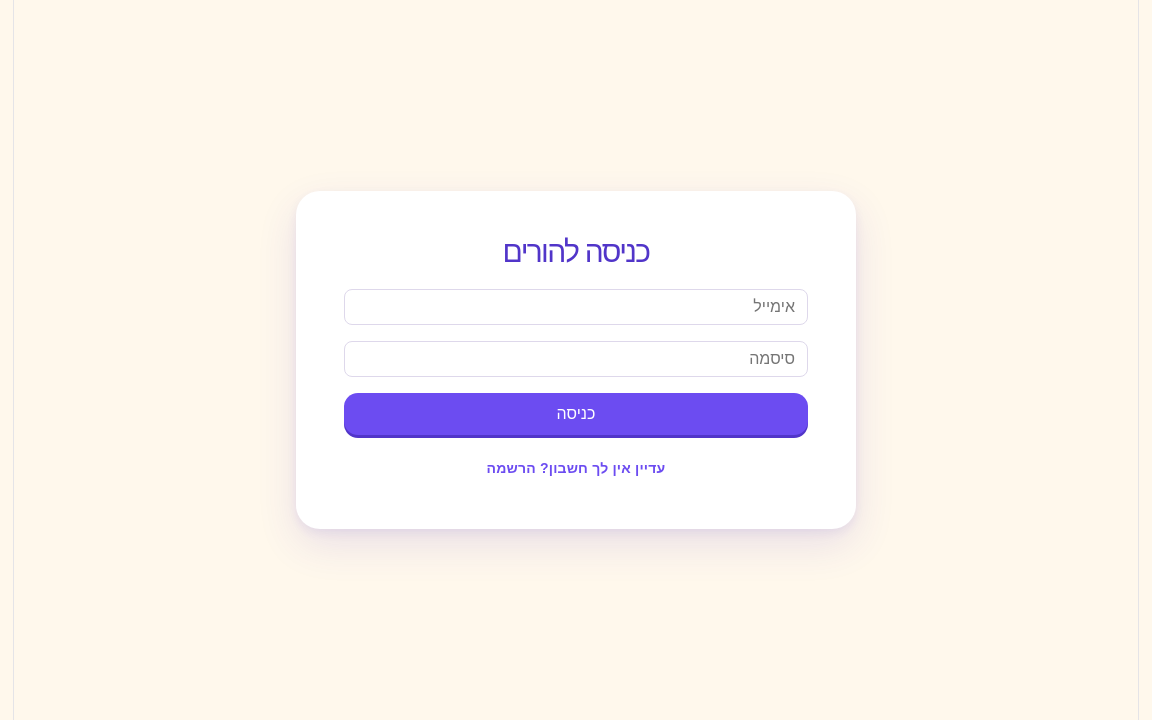
Scenario: LoginPage › disables the submit button and shows the submitting label while the request is in flight
Type "parent@example.com" into the field labelled "אימייל" at (576, 307), box [344,289,808,325]
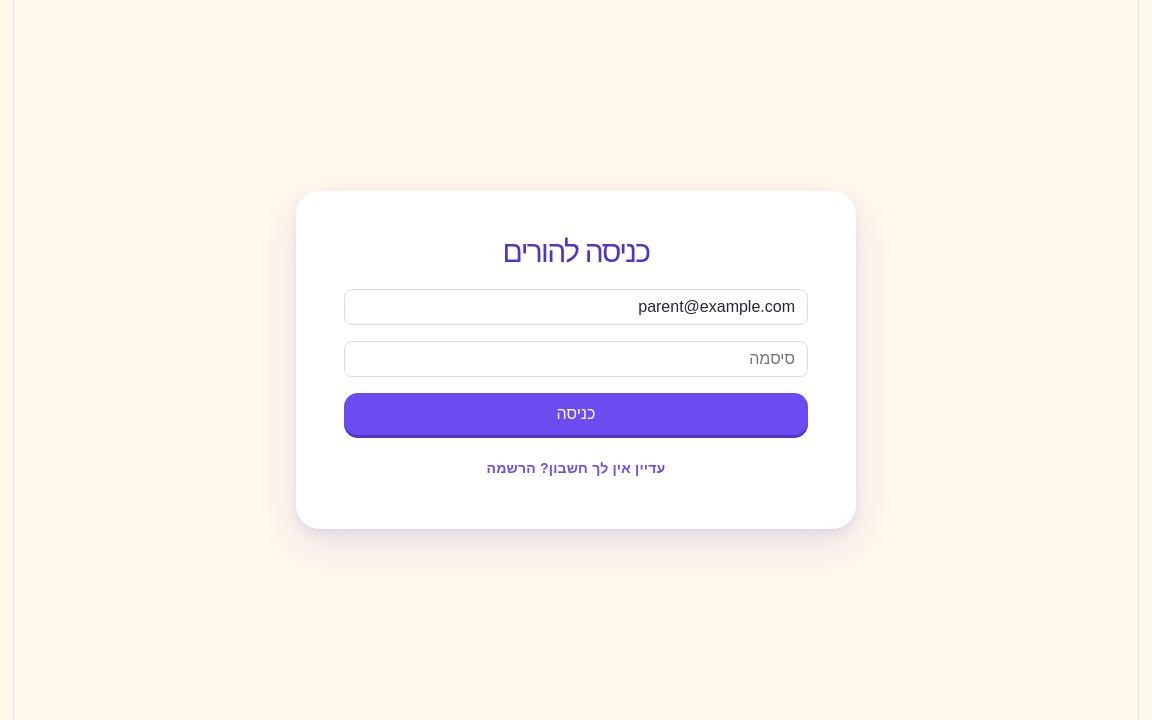
Type "correct-horse" into the password field labelled "סיסמה" at (576, 359), box [344,341,808,377]
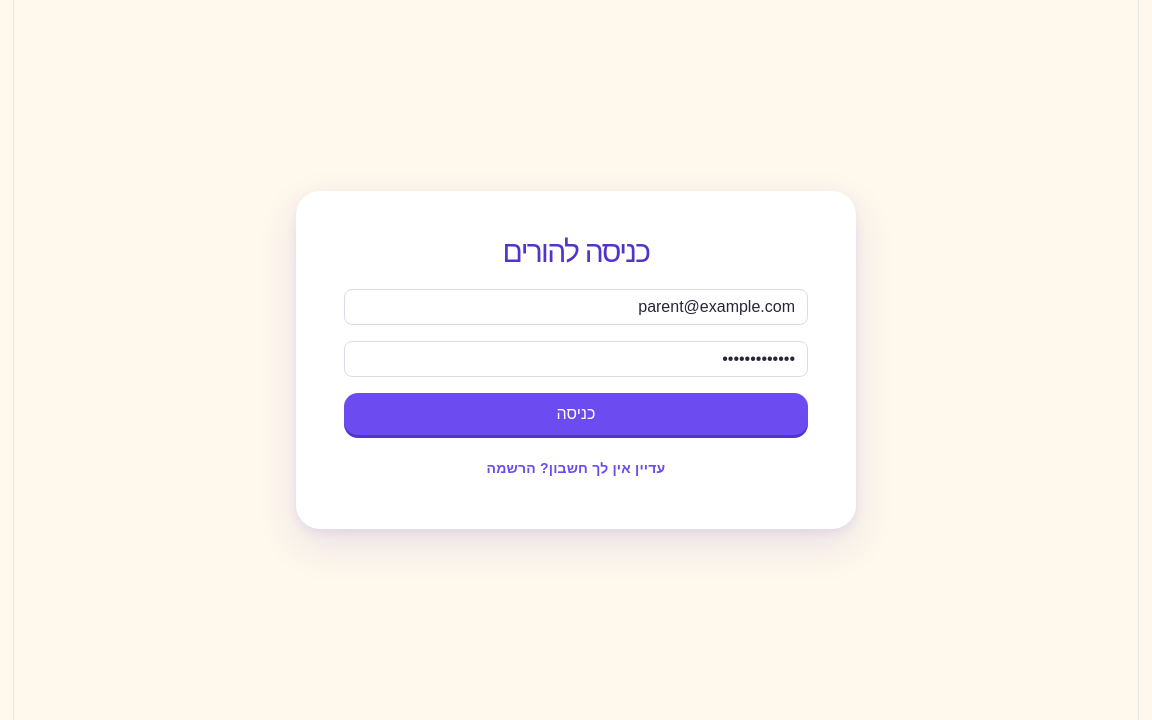
Click the button "כניסה" at (576, 414), box [344,393,808,435]
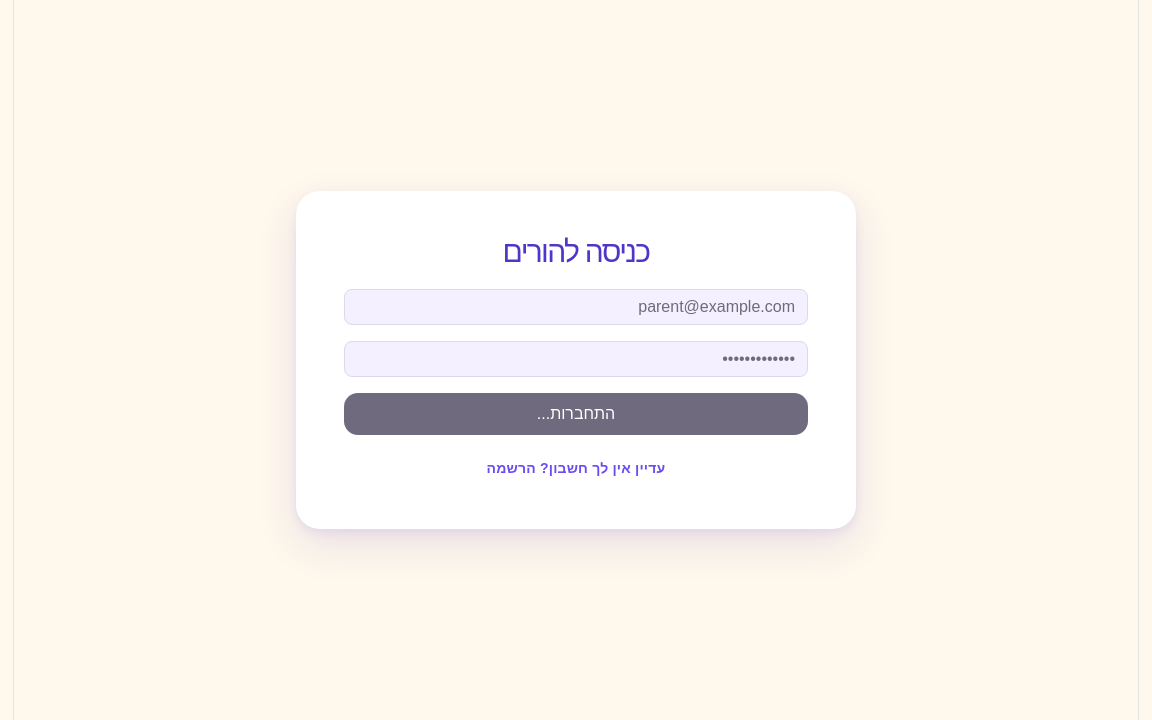
Now the button "התחברות..." is disabled, box [344,393,808,435]
